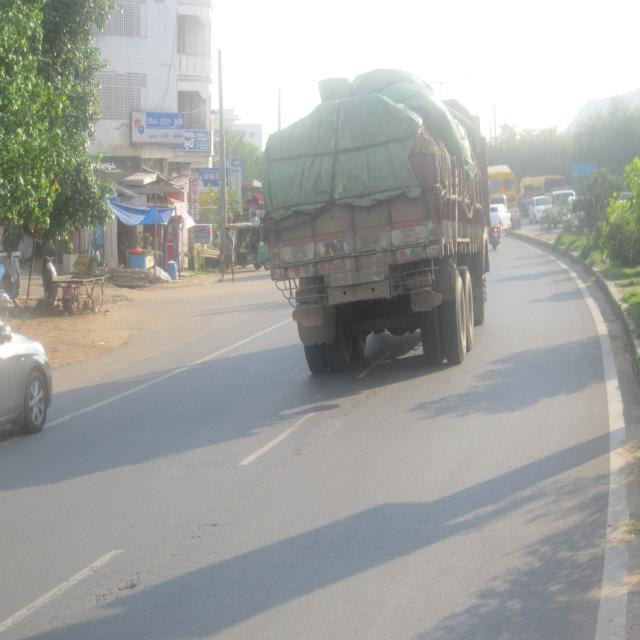car_front: (528, 194, 554, 228)
truck_back: (250, 63, 498, 380)
truck_front: (484, 161, 522, 220)
two_wheeler_back: (486, 211, 504, 253)
